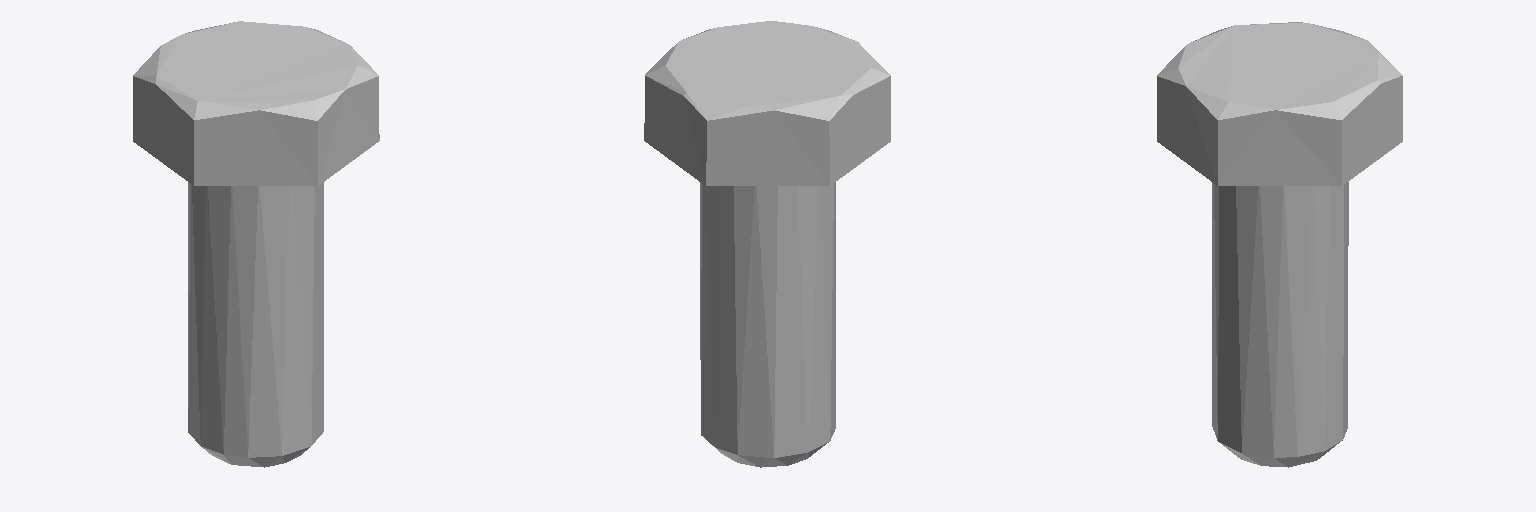
The model's file is m12 rear bolts.obj.
3 renders of one model, left to right at view 1: azimuth 30°, elevation 25°; view 2: azimuth 150°, elevation 25°; view 3: azimuth 270°, elevation 25°, orthographic.
Parts seen in each view (by area): view 1: imagetostl_mesh0; view 2: imagetostl_mesh0; view 3: imagetostl_mesh0.
Part boxes in pixels (left/top/right/bottom): imagetostl_mesh0: left=133, top=21, right=379, bottom=467; imagetostl_mesh0: left=644, top=21, right=890, bottom=467; imagetostl_mesh0: left=1157, top=22, right=1402, bottom=467.
Bounding box in the file's own units: 19.01 × 37.51 × 21.94.